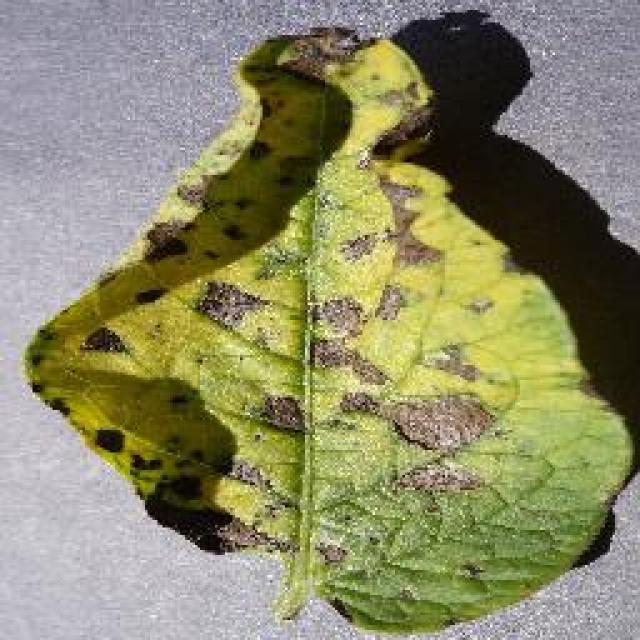green waste: (28, 11, 640, 640)
